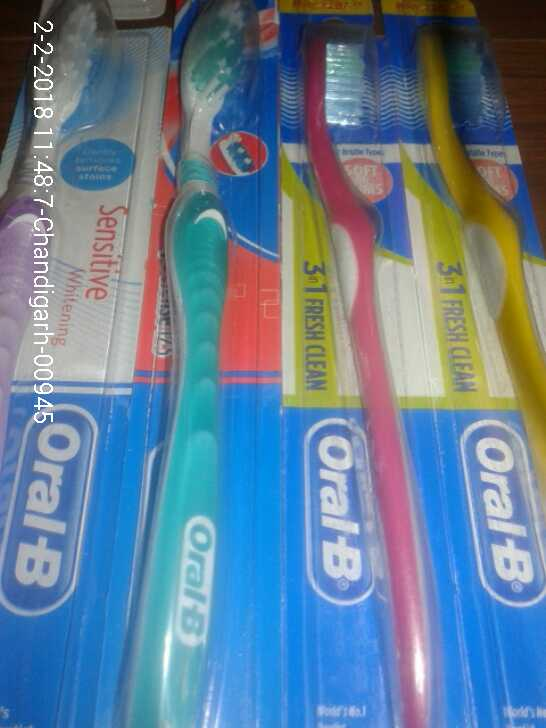oralb: (129, 16, 257, 726), (306, 17, 420, 726), (415, 16, 543, 495)
